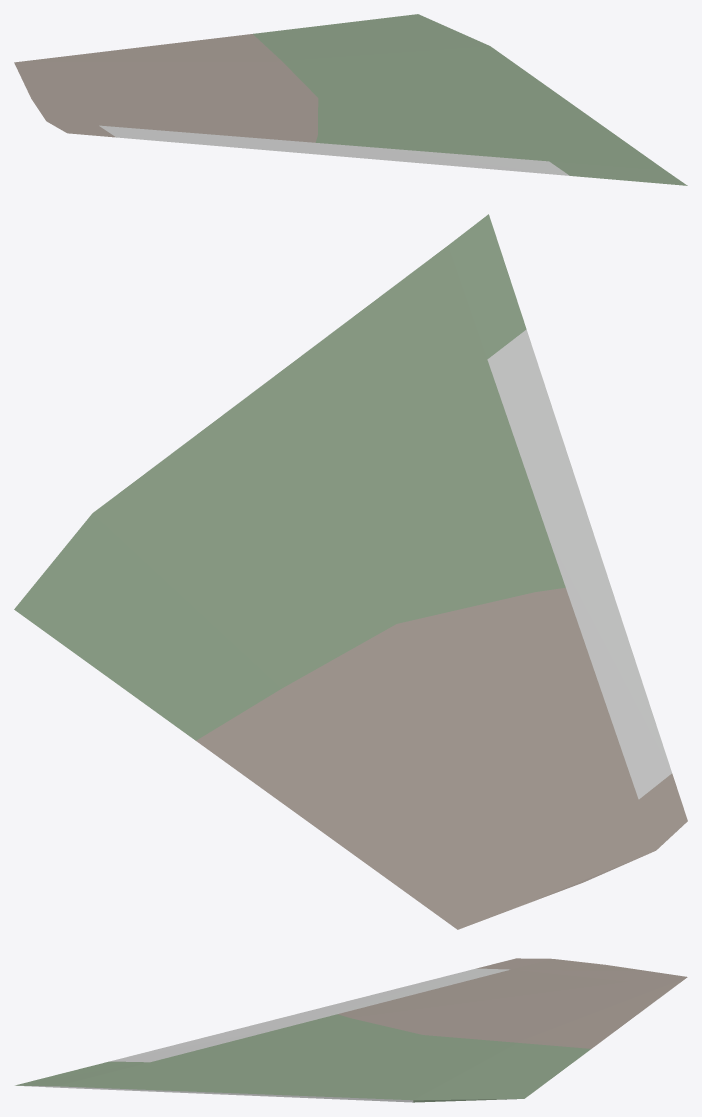
Rendered from cold_war_planes_mig_29a_gdr_surf_elevatorRight.gltf.
The picture shows the model from 3 angles, top to bottom: view 1: azimuth 30°, elevation 25°; view 2: azimuth 150°, elevation 25°; view 3: azimuth 270°, elevation 25°; orthographic projection. The views are drawn at different scales.
Visible parts, largest first — view 1: 0_0_#42593d, 0_1_#5f5249, 0_2_#999a99; view 2: 0_0_#42593d, 0_1_#5f5249, 0_2_#999a99; view 3: 0_0_#42593d, 0_1_#5f5249, 0_2_#999a99, 0_3_#dbdfde.
Part boxes in pixels (x1=…): 0_0_#42593d: x1=253, y1=14, x2=687, y2=185; 0_1_#5f5249: x1=14, y1=34, x2=318, y2=142; 0_2_#999a99: x1=99, y1=125, x2=569, y2=175; 0_0_#42593d: x1=14, y1=214, x2=565, y2=740; 0_1_#5f5249: x1=196, y1=587, x2=687, y2=929; 0_2_#999a99: x1=487, y1=329, x2=671, y2=799; 0_0_#42593d: x1=15, y1=1014, x2=590, y2=1102; 0_1_#5f5249: x1=338, y1=958, x2=687, y2=1048; 0_2_#999a99: x1=109, y1=968, x2=509, y2=1062; 0_3_#dbdfde: x1=17, y1=1085, x2=413, y2=1102.
Bounding box in the file's own units: 2.22 × 0.2797 × 3.57.
